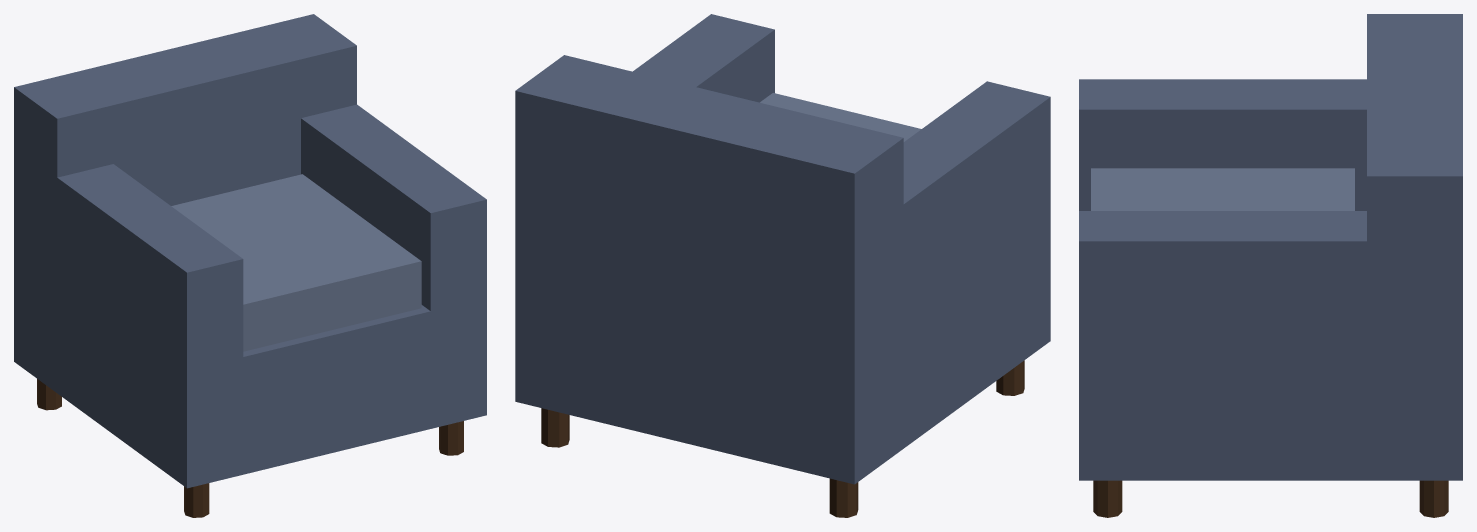
Rendered from armchair.glb.
3 renders of one model, left to right at view 1: azimuth 30°, elevation 25°; view 2: azimuth 150°, elevation 25°; view 3: azimuth 270°, elevation 25°, orthographic. The views are drawn at different scales.
Visible parts, largest first — view 1: armchair; view 2: armchair; view 3: armchair.
Part boxes in pixels (x1,y1,x2,y2): armchair: [14, 14, 486, 517]; armchair: [515, 14, 1050, 517]; armchair: [1079, 14, 1462, 517].
Size of the model in its own units: 0.8 by 0.8 by 0.8.
